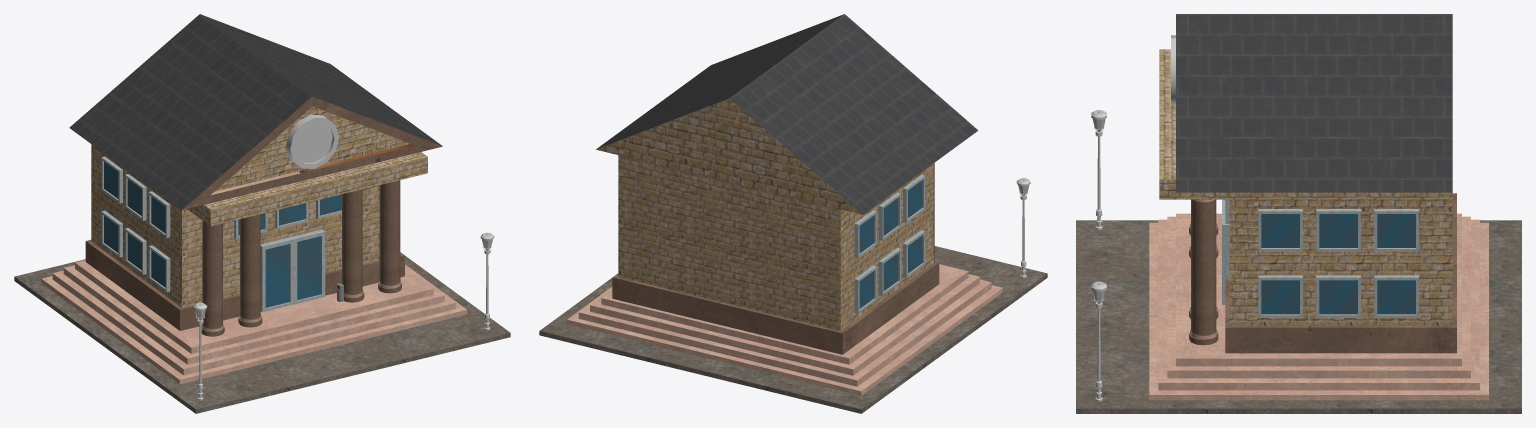
Rendered from bank01.fbx.
3 views of the same model, side by side, from view 1: azimuth 30°, elevation 25°; view 2: azimuth 150°, elevation 25°; view 3: azimuth 270°, elevation 25° (orthographic). The views are drawn at different scales.
Visible parts, largest first — view 1: bank01; view 2: bank01; view 3: bank01.
Part boxes in pixels (left/top/right/bottom): bank01: left=14, top=14, right=510, bottom=413; bank01: left=539, top=14, right=1047, bottom=413; bank01: left=1076, top=14, right=1521, bottom=413.
Bounding box in the file's own units: 1504 × 1138 × 1504.
